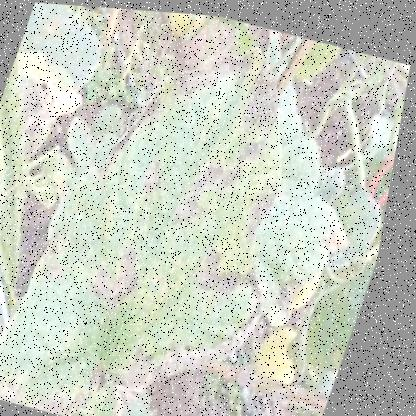Anthracnose: (0, 341, 157, 415), (174, 122, 271, 235), (77, 221, 171, 320), (189, 229, 294, 317), (222, 44, 309, 143), (131, 136, 176, 209)
